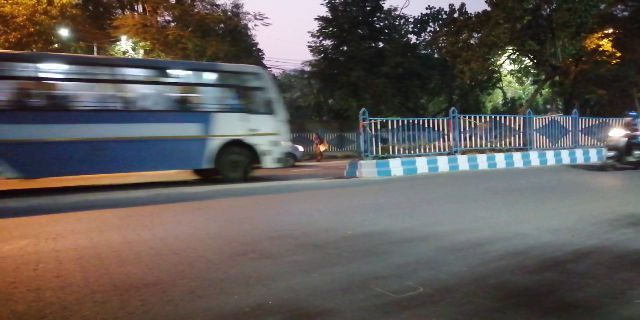Bus: (14, 51, 298, 188)
